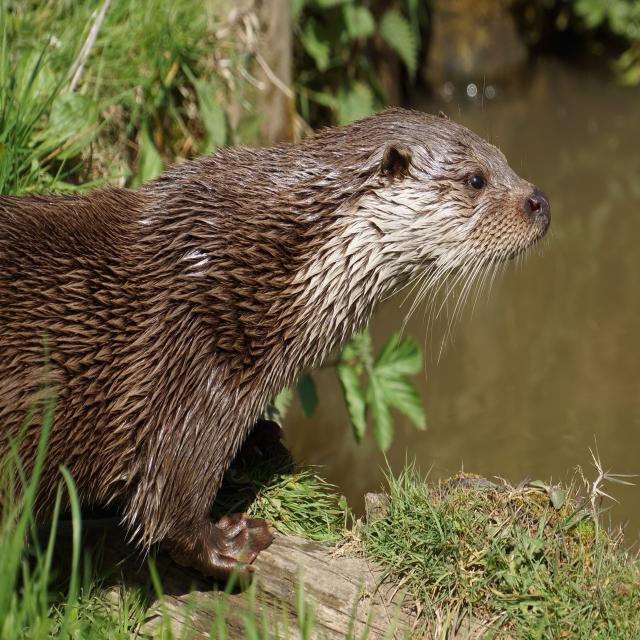otter: (1, 109, 551, 584)
